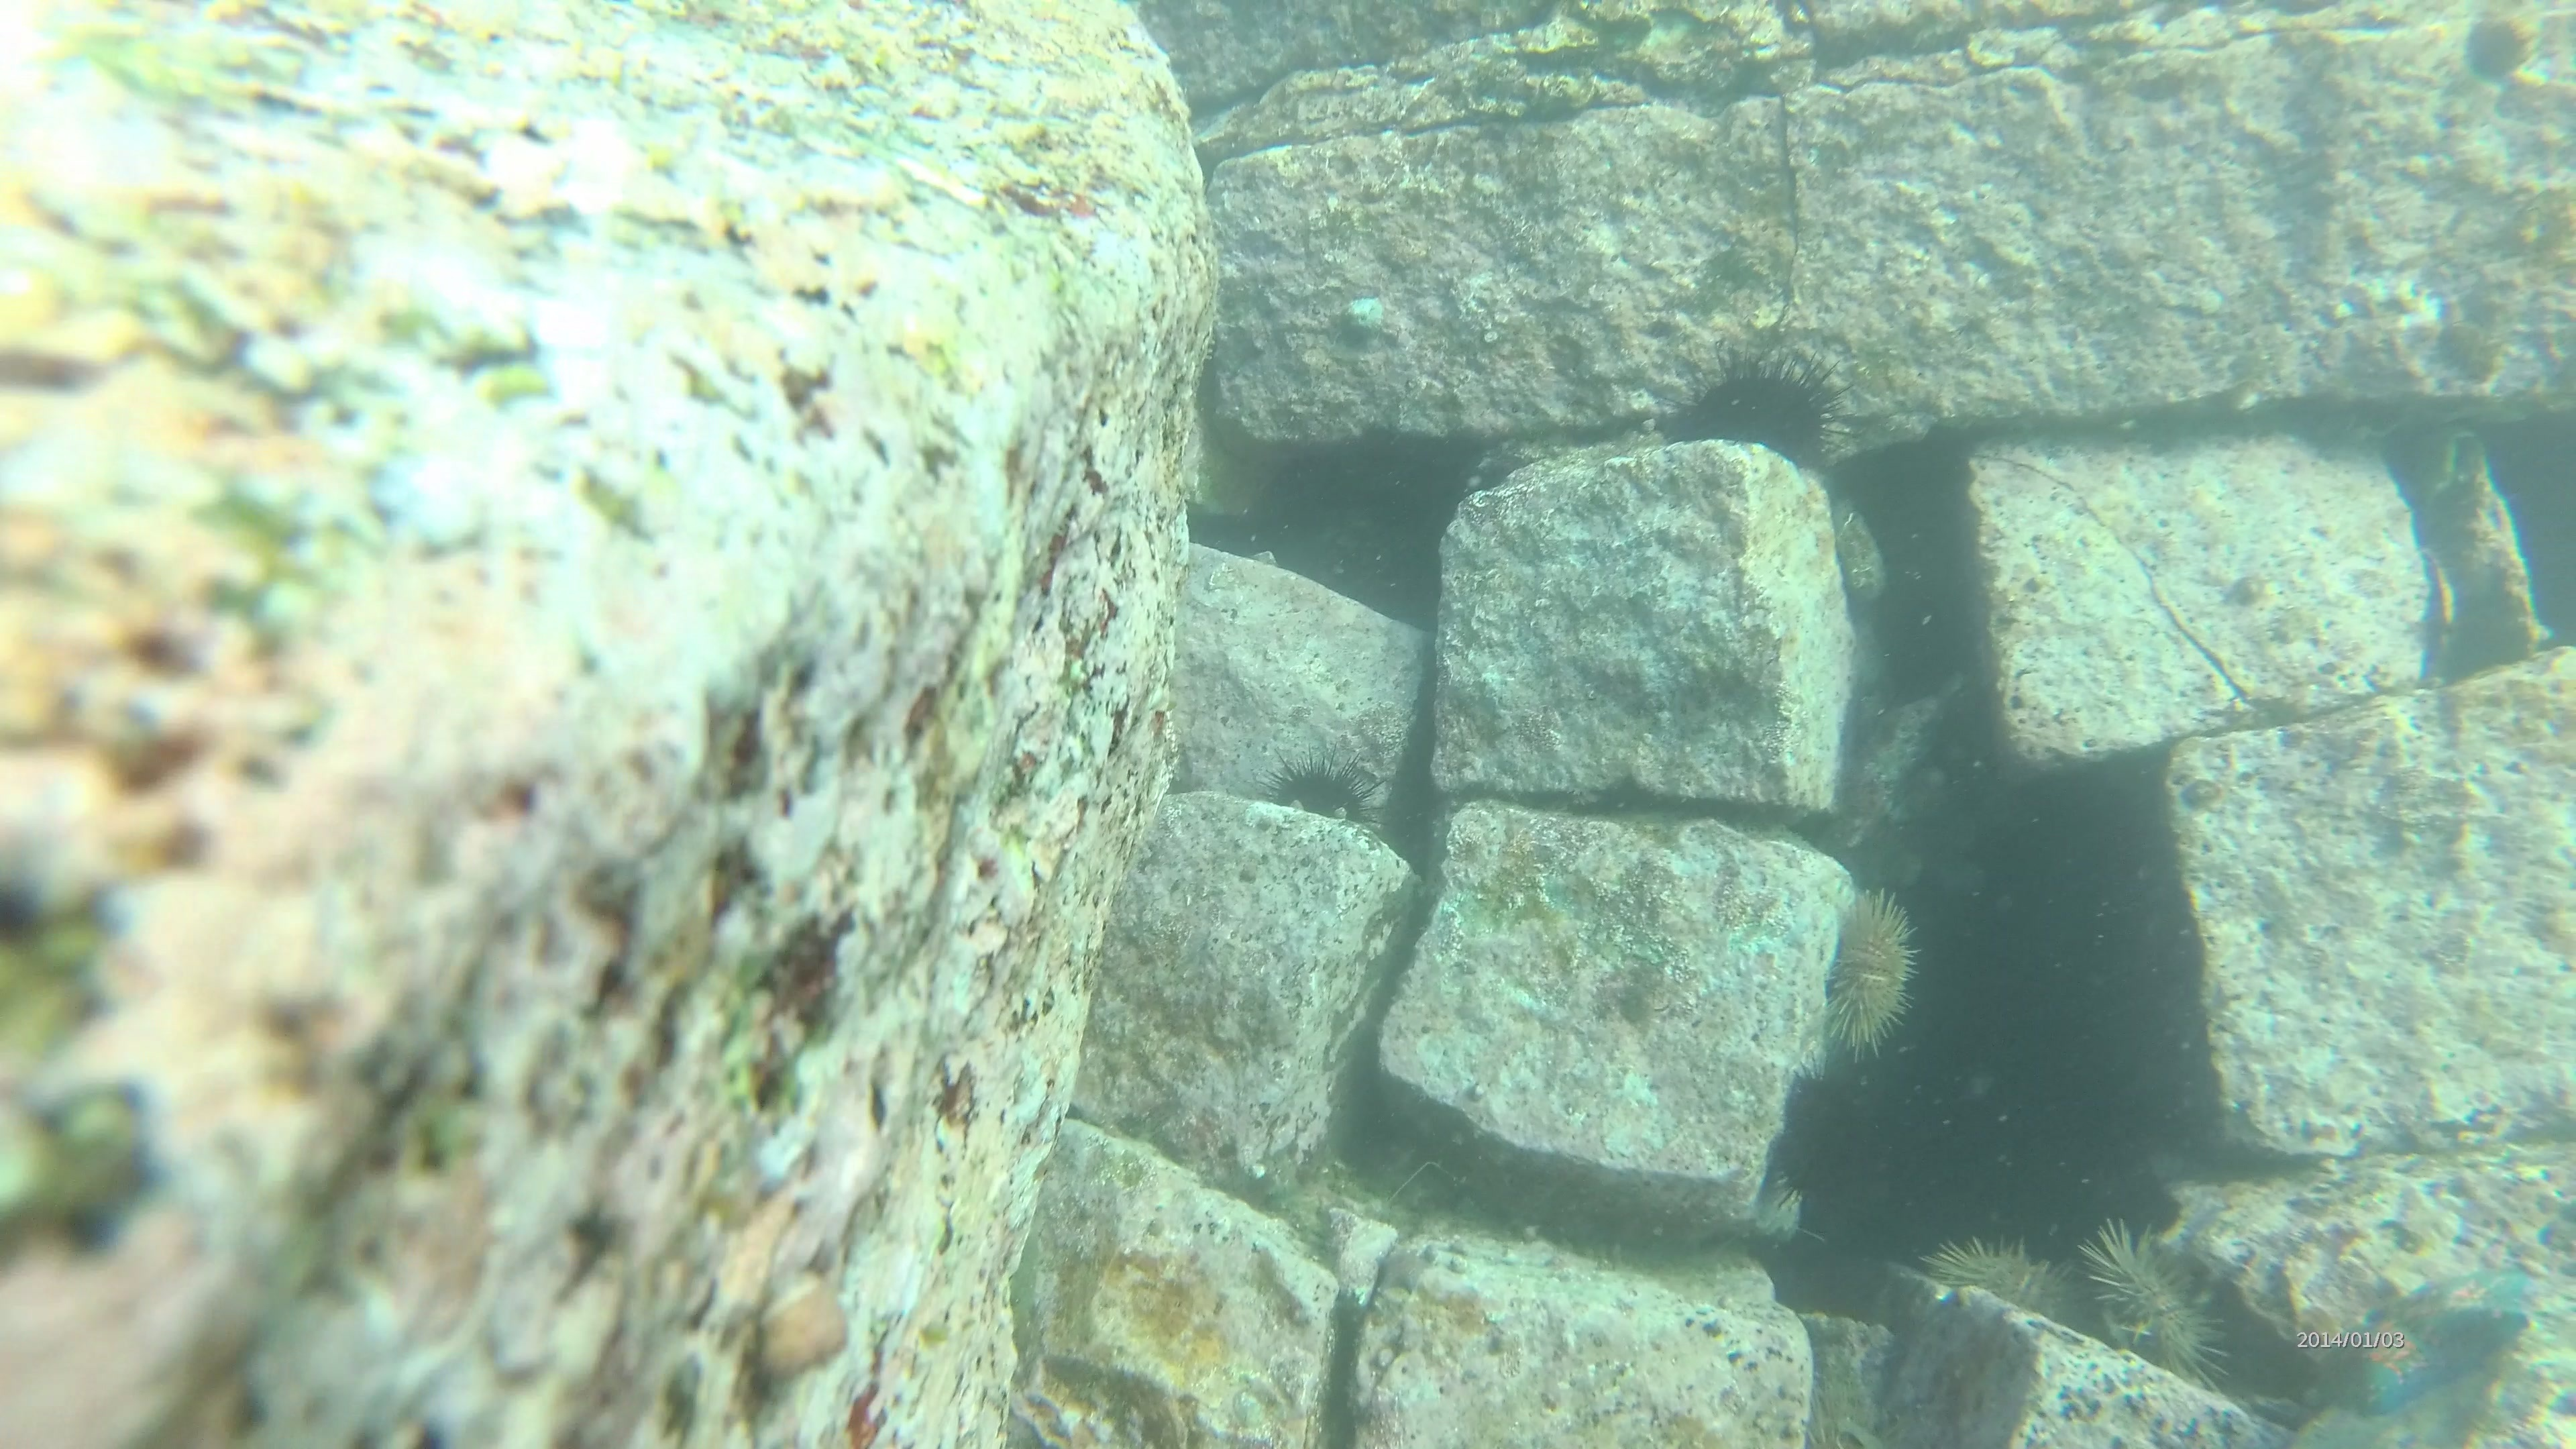echinus: (1652, 347, 1870, 474), (2074, 1217, 2231, 1392), (1813, 883, 1921, 1062), (1916, 1224, 2068, 1325), (1256, 747, 1391, 847), (2465, 0, 2539, 83)
starfish: (2311, 1258, 2539, 1417)
